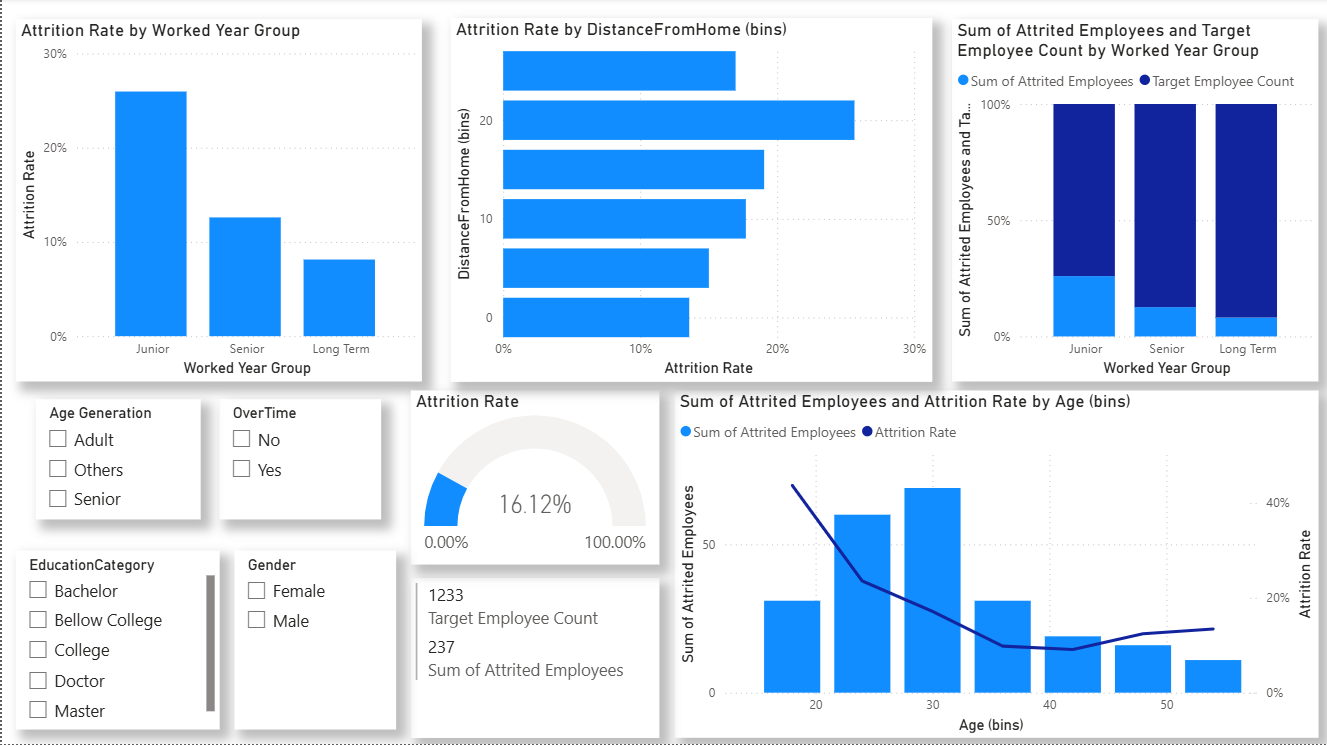

What the dashboard file says about the page in this screenshot:
{"tool":"powerbi","page":{"name":"Who Leaves & Why?","canvas":[1280,720],"ordinal":0},"visuals":[{"type":"lineStackedColumnComboChart","fields":{"Category":["WA_Fn-UseC_-HR-Employee-Attrition.Worked Year Group"],"Y":["WA_Fn-UseC_-HR-Employee-Attrition.Attrition Rate"]},"box":[13.3,20.5,392.1,349.9],"z":0},{"type":"slicer","fields":{"Values":["WA_Fn-UseC_-HR-Employee-Attrition.OverTime"]},"box":[209.9,387.3,155.6,115.8],"z":1000},{"type":"hundredPercentStackedColumnChart","fields":{"Category":["WA_Fn-UseC_-HR-Employee-Attrition.Worked Year Group"],"Y":["Sum(WA_Fn-UseC_-HR-Employee-Attrition.Attritated Employees)","WA_Fn-UseC_-HR-Employee-Attrition.Target Employee Count"]},"box":[916.9,20.5,353.5,349.9],"z":2000},{"type":"slicer","fields":{"Values":["WA_Fn-UseC_-HR-Employee-Attrition.Age Generation"]},"box":[32.6,387.3,159.3,115.8],"z":3000},{"type":"lineClusteredColumnComboChart","fields":{"Category":["WA_Fn-UseC_-HR-Employee-Attrition.Age (bins)"],"Y":["Sum(WA_Fn-UseC_-HR-Employee-Attrition.Attritated Employees)"],"Y2":["WA_Fn-UseC_-HR-Employee-Attrition.Attrition Rate"]},"box":[649.1,378.8,621.3,335.4],"z":4000},{"type":"multiRowCard","fields":{"Values":["WA_Fn-UseC_-HR-Employee-Attrition.Target Employee Count","Sum(WA_Fn-UseC_-HR-Employee-Attrition.Attritated Employees)"]},"box":[394.5,559.8,240.1,154.4],"z":5000},{"type":"gauge","fields":{"Y":["WA_Fn-UseC_-HR-Employee-Attrition.Attrition Rate"]},"box":[394.5,378.8,240.1,167.7],"z":6000},{"type":"slicer","fields":{"Values":["WA_Fn-UseC_-HR-Employee-Attrition.EducationCategory"]},"box":[13.3,533.2,196.6,172.5],"z":7000},{"type":"slicer","fields":{"Values":["WA_Fn-UseC_-HR-Employee-Attrition.Gender"]},"box":[224.4,533.2,155.6,172.5],"z":8000},{"type":"clusteredBarChart","fields":{"Category":["WA_Fn-UseC_-HR-Employee-Attrition.DistanceFromHome (bins)"],"Y":["WA_Fn-UseC_-HR-Employee-Attrition.Attrition Rate"]},"box":[433.1,19.3,464.5,351.1],"z":9000}]}

Visuals, with their boxes in screenshot pixels (x1, y1, x2, y2), scaled from the page's 1280x720 canvas onto the 1327x747 screenshot:
lineStackedColumnComboChart - WA_Fn-UseC_-HR-Employee-Attrition.Worked Year Group x WA_Fn-UseC_-HR-Employee-Attrition.Attrition Rate: 14/21/420/384
slicer - WA_Fn-UseC_-HR-Employee-Attrition.OverTime: 218/402/379/522
hundredPercentStackedColumnChart - WA_Fn-UseC_-HR-Employee-Attrition.Worked Year Group x Sum(WA_Fn-UseC_-HR-Employee-Attrition.Attritated Employees): 951/21/1317/384
slicer - WA_Fn-UseC_-HR-Employee-Attrition.Age Generation: 34/402/199/522
lineClusteredColumnComboChart - WA_Fn-UseC_-HR-Employee-Attrition.Age (bins) x Sum(WA_Fn-UseC_-HR-Employee-Attrition.Attritated Employees): 673/393/1317/741
multiRowCard - WA_Fn-UseC_-HR-Employee-Attrition.Target Employee Count x Sum(WA_Fn-UseC_-HR-Employee-Attrition.Attritated Employees): 409/581/658/741
gauge - WA_Fn-UseC_-HR-Employee-Attrition.Attrition Rate: 409/393/658/567
slicer - WA_Fn-UseC_-HR-Employee-Attrition.EducationCategory: 14/553/218/732
slicer - WA_Fn-UseC_-HR-Employee-Attrition.Gender: 233/553/394/732
clusteredBarChart - WA_Fn-UseC_-HR-Employee-Attrition.DistanceFromHome (bins) x WA_Fn-UseC_-HR-Employee-Attrition.Attrition Rate: 449/20/931/384
